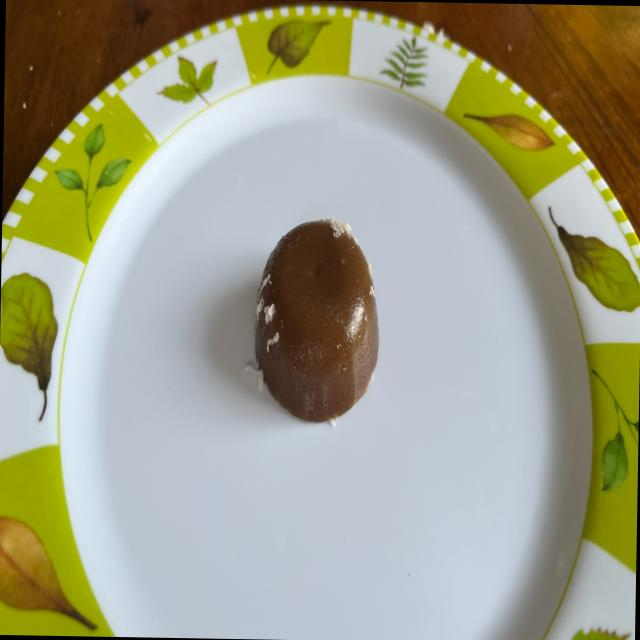Kuih lompang: (255, 218, 379, 422)
